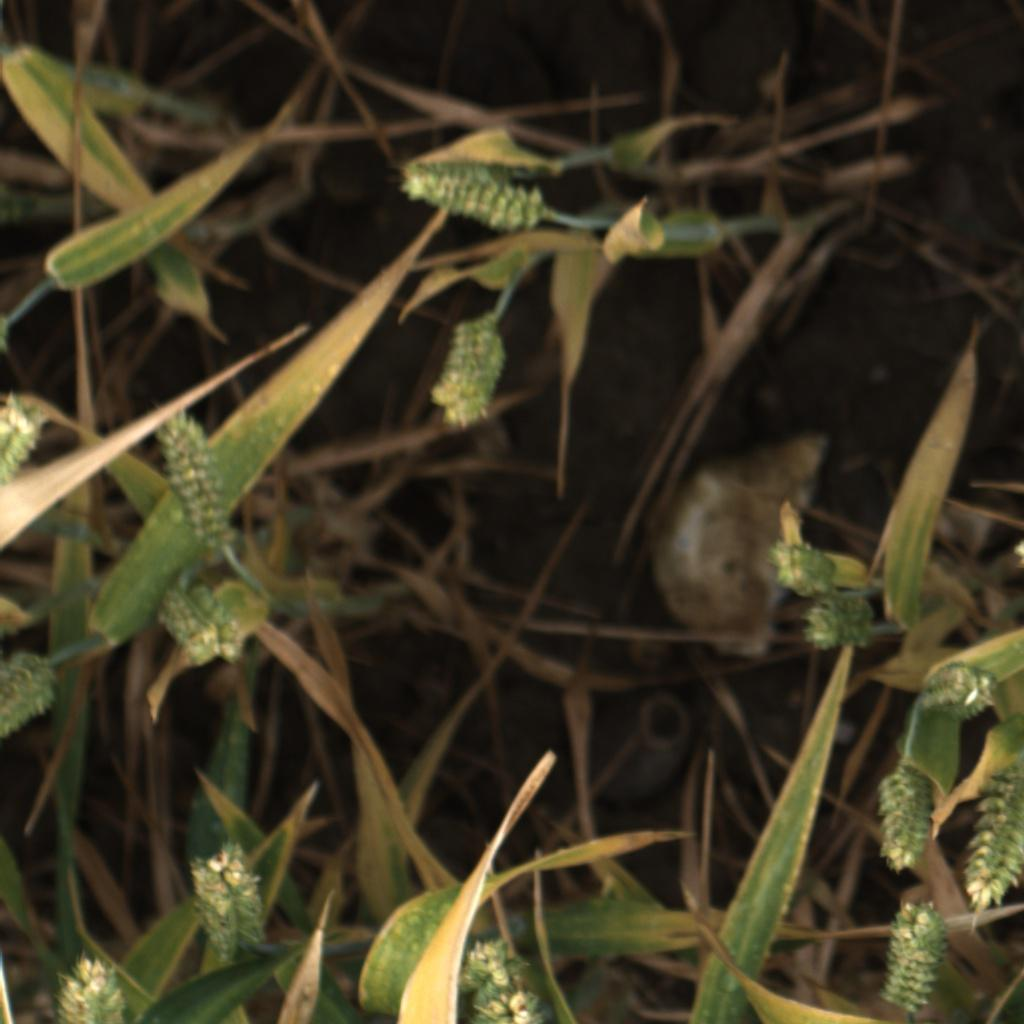0-0: (394, 148, 551, 237), (159, 398, 235, 550), (961, 769, 1024, 913), (189, 842, 266, 959), (878, 900, 950, 1016), (434, 323, 504, 428), (874, 770, 942, 874), (159, 589, 244, 665), (50, 956, 134, 1024), (921, 659, 1001, 718), (4, 648, 54, 739), (771, 534, 841, 598), (800, 597, 878, 654), (0, 393, 48, 479), (464, 980, 544, 1024), (464, 927, 527, 982)
